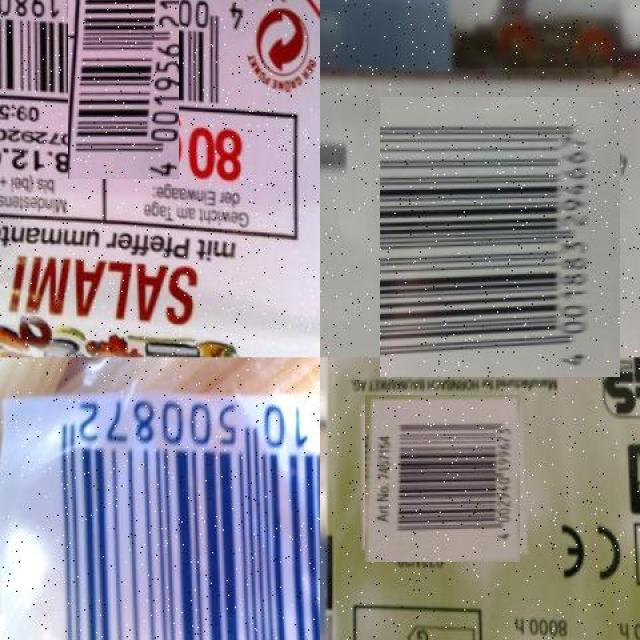Barcode: (13, 389, 320, 640), (369, 107, 630, 367), (361, 398, 523, 559), (35, 0, 213, 144)
